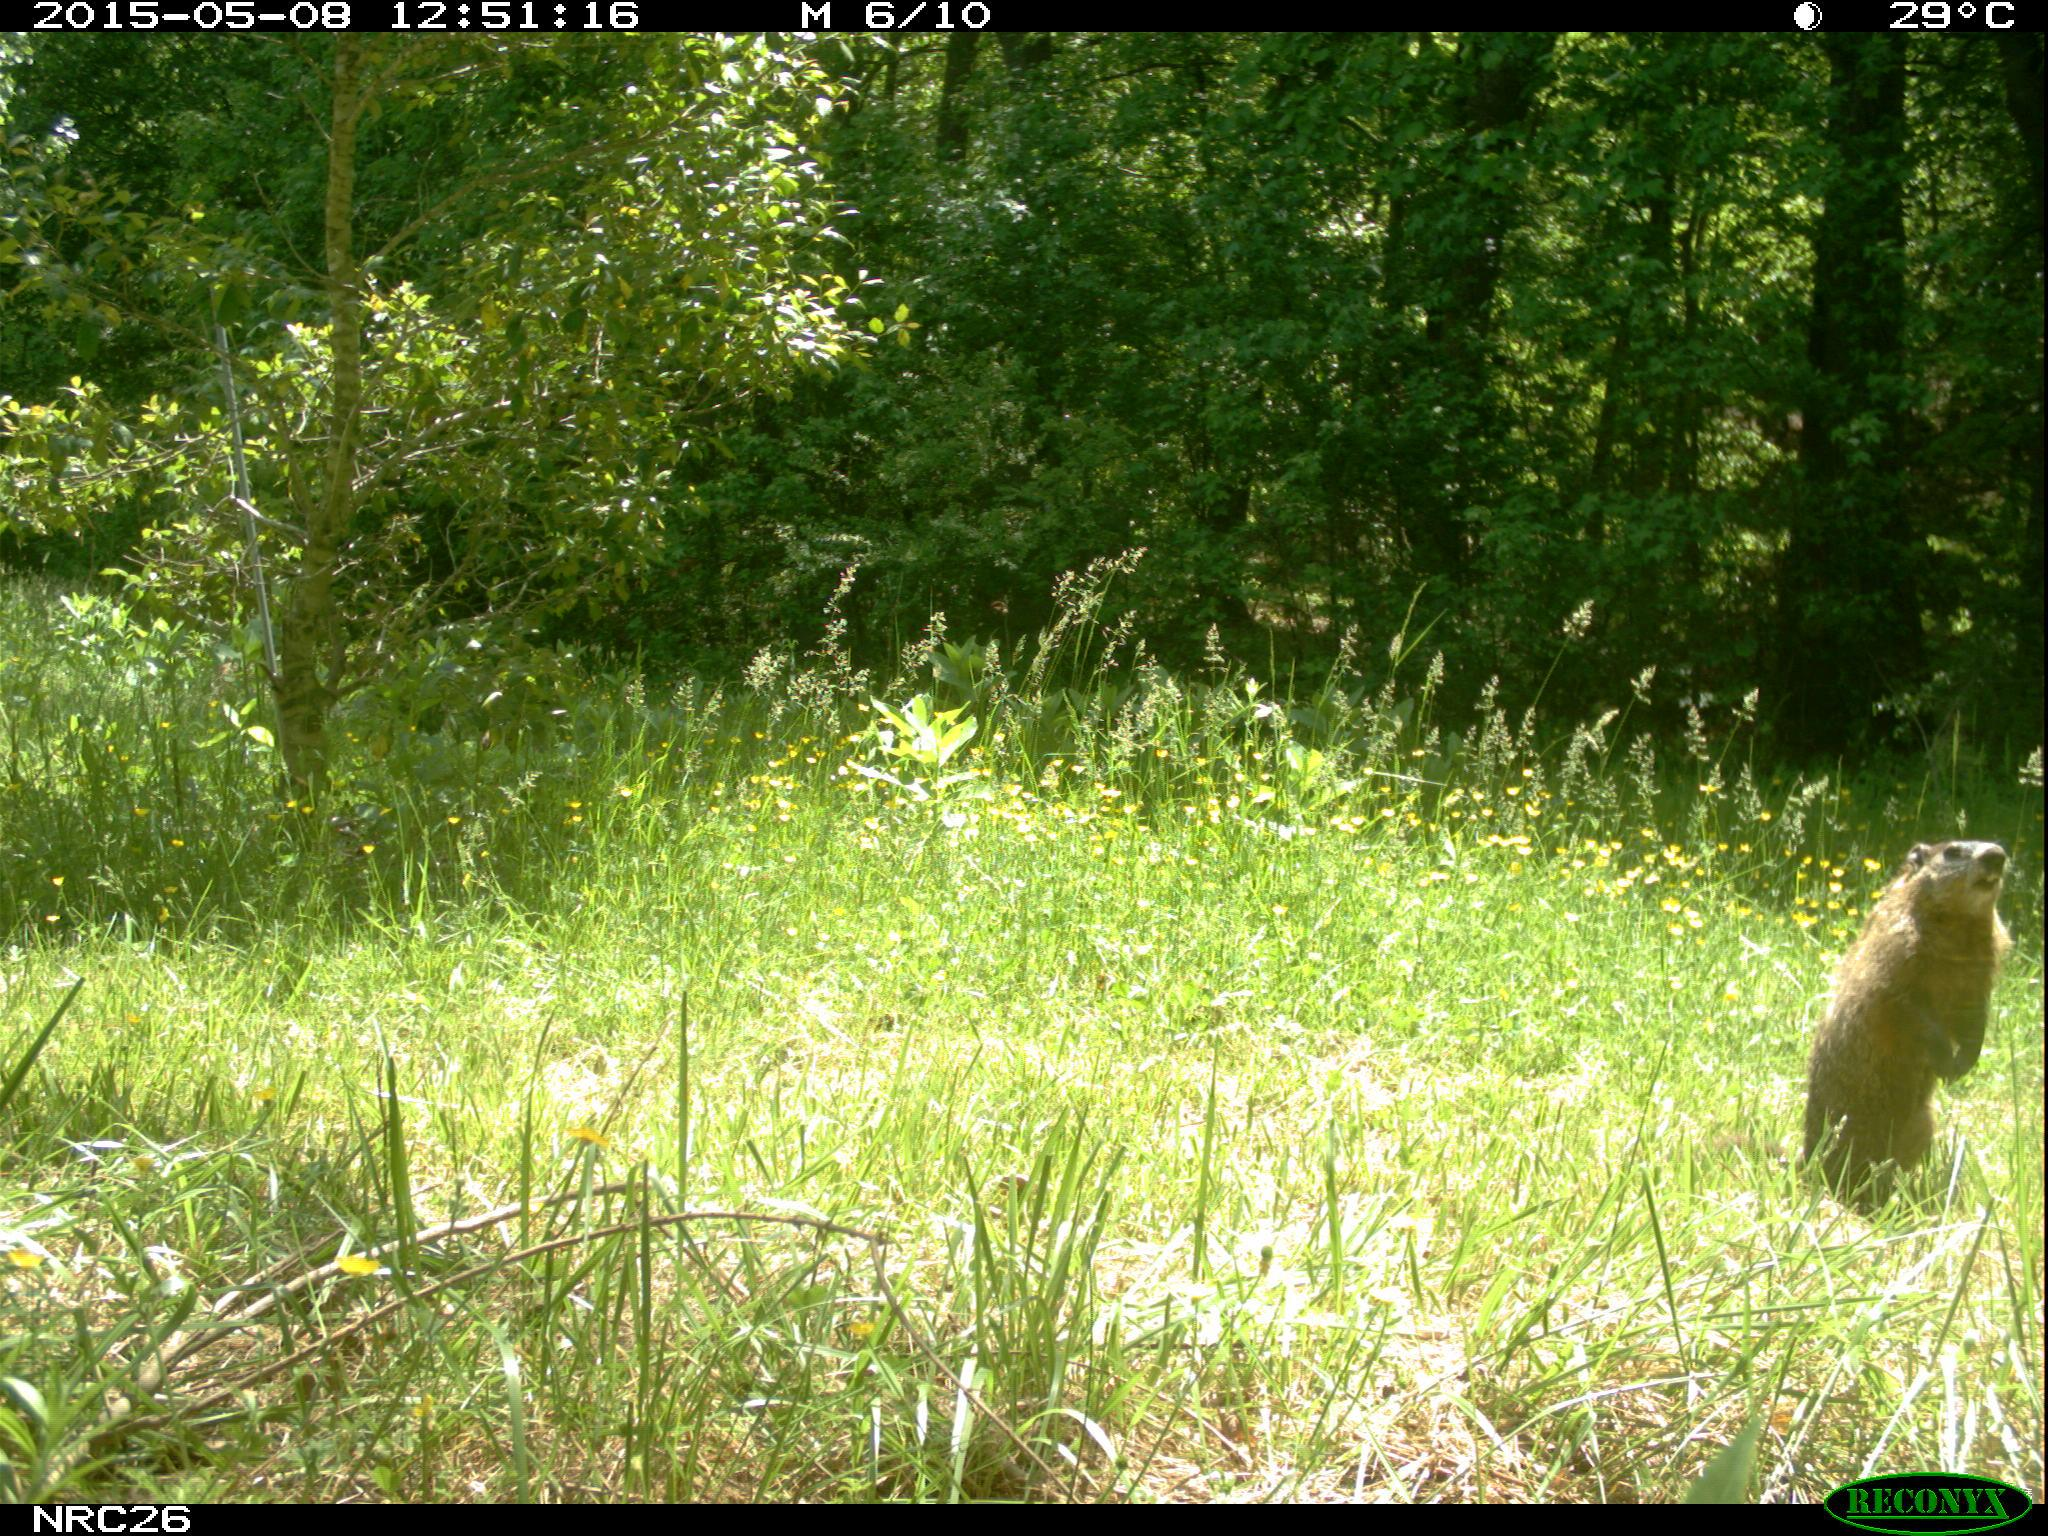Animal: (1801, 836, 2016, 1191)
